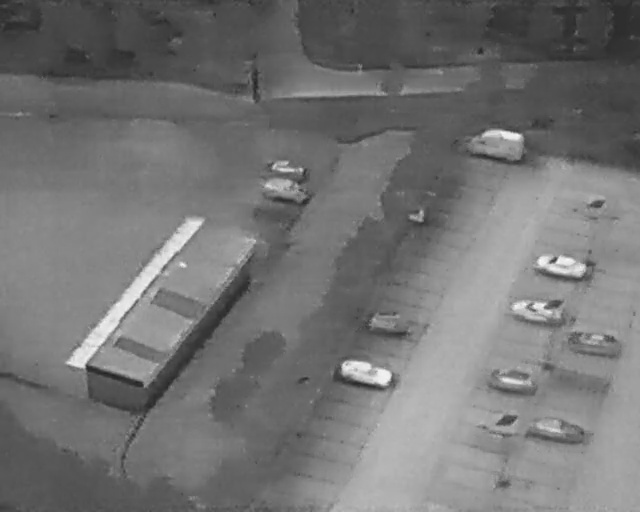Car: (465, 122, 527, 166), (525, 413, 587, 447), (532, 246, 588, 282), (258, 172, 314, 208), (508, 294, 568, 326), (337, 357, 395, 390), (563, 327, 622, 359), (484, 365, 538, 396)
